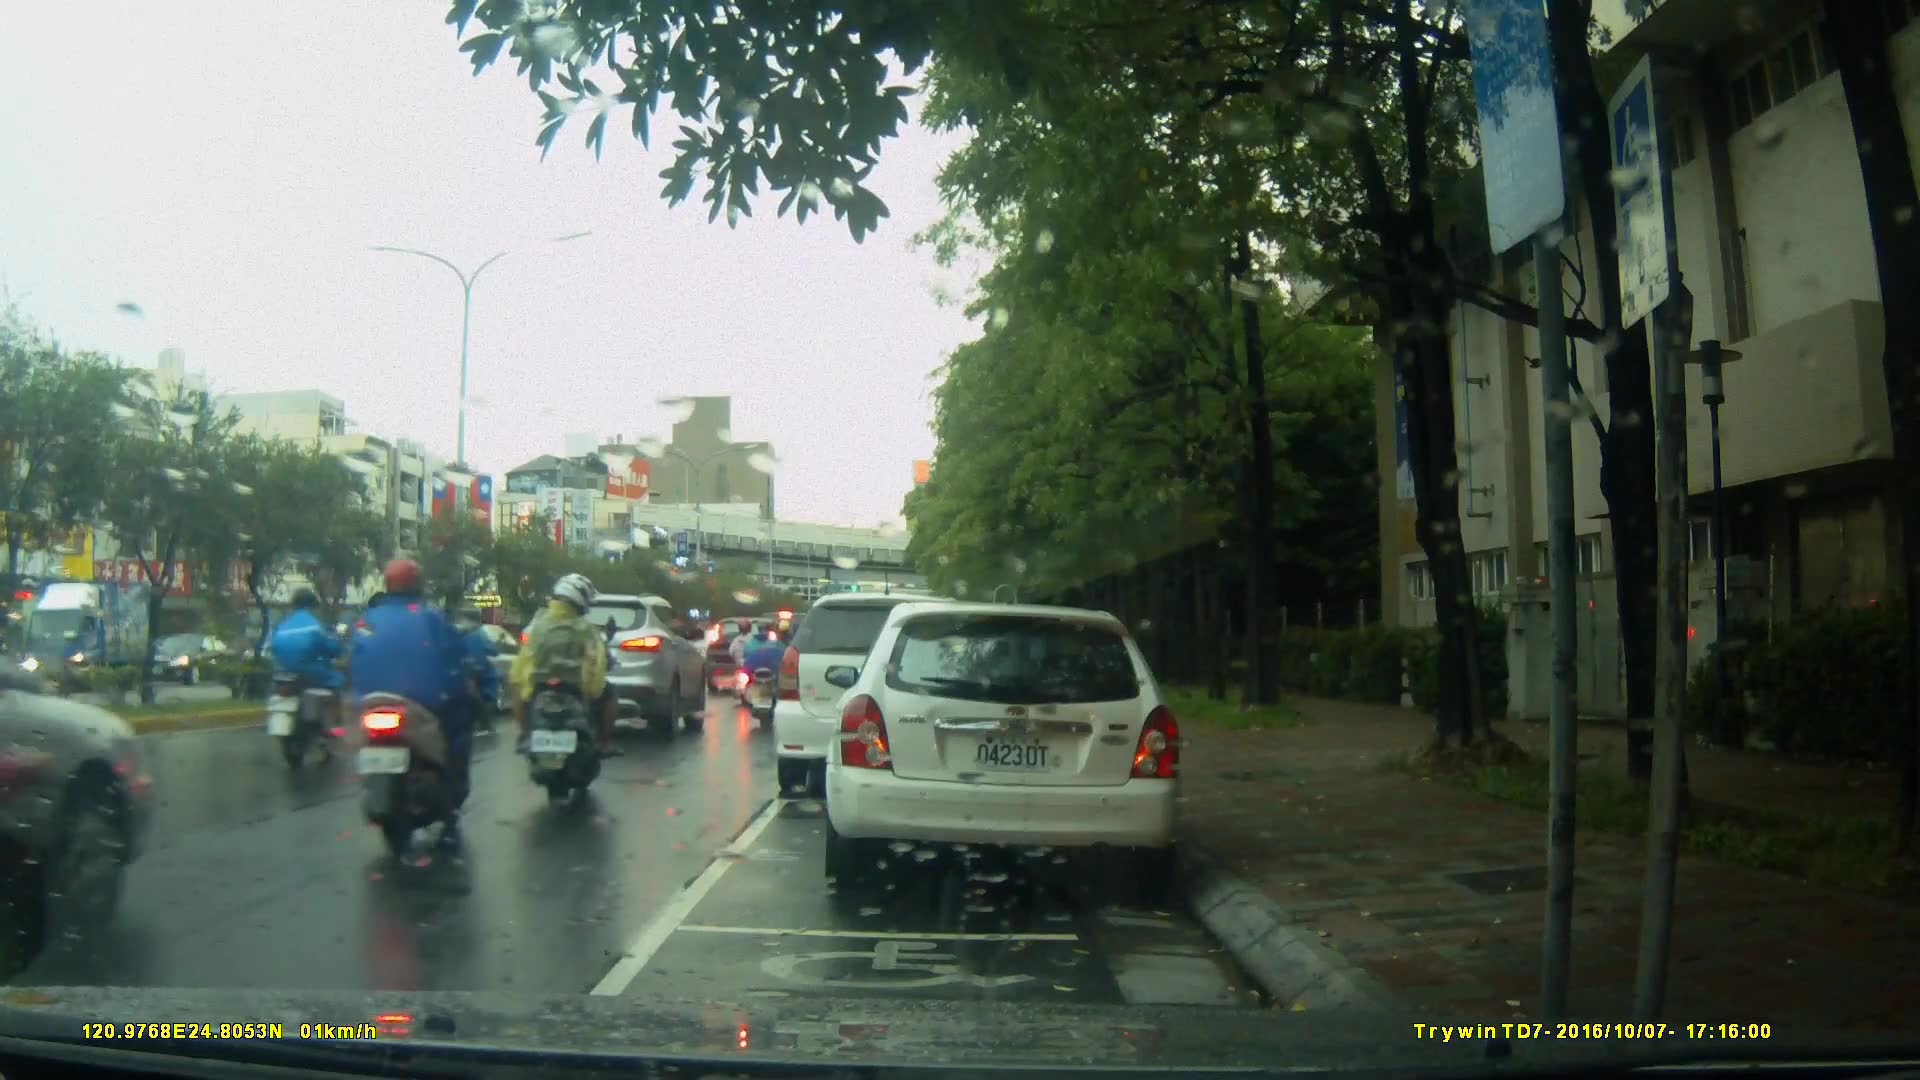rider: (346, 553, 480, 855), (510, 575, 619, 811), (264, 582, 349, 768), (432, 606, 516, 719), (739, 616, 790, 726), (730, 617, 768, 710)
vehicle: (822, 604, 1188, 883), (774, 595, 995, 802), (513, 593, 708, 745), (20, 576, 167, 697), (144, 630, 241, 686)
